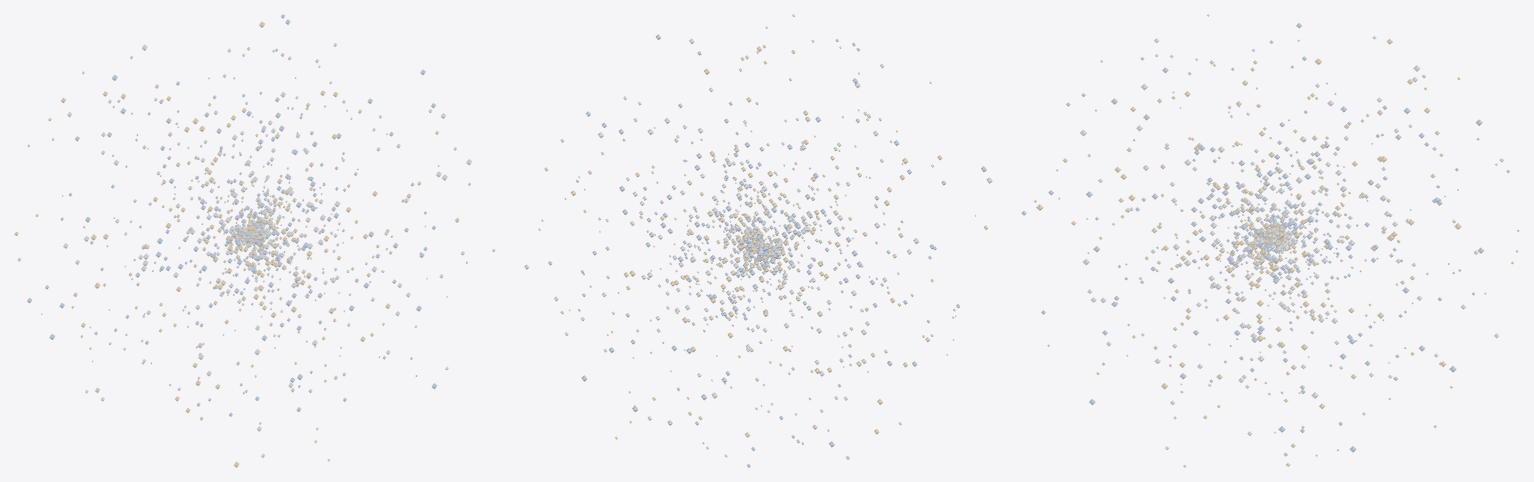
The picture shows the model from 3 angles, left to right: view 1: azimuth 30°, elevation 25°; view 2: azimuth 150°, elevation 25°; view 3: azimuth 270°, elevation 25°; orthographic projection. The views are drawn at different scales.
Bounding box in the file's own units: 5 × 4.74 × 5.12.
